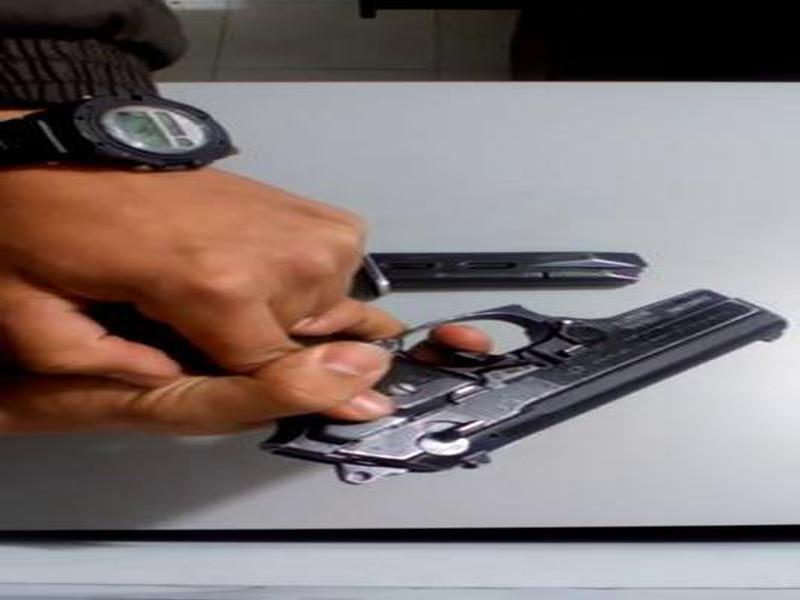Pistola: (230, 256, 795, 497)
